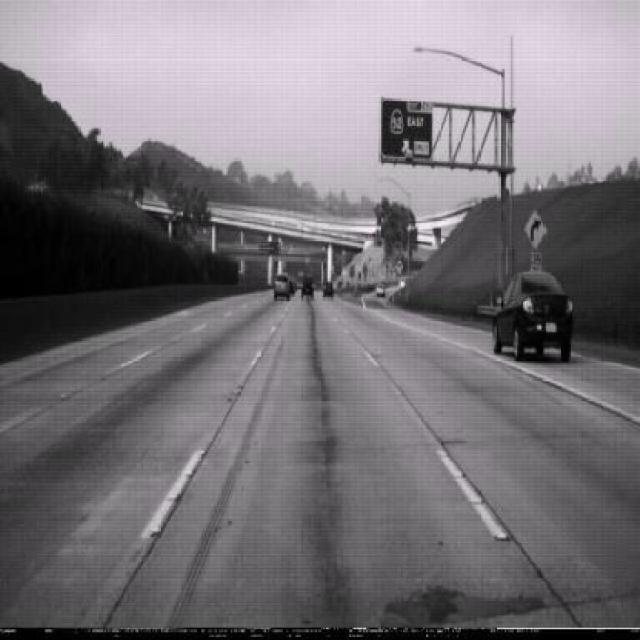curveRight: (526, 208, 548, 250)
